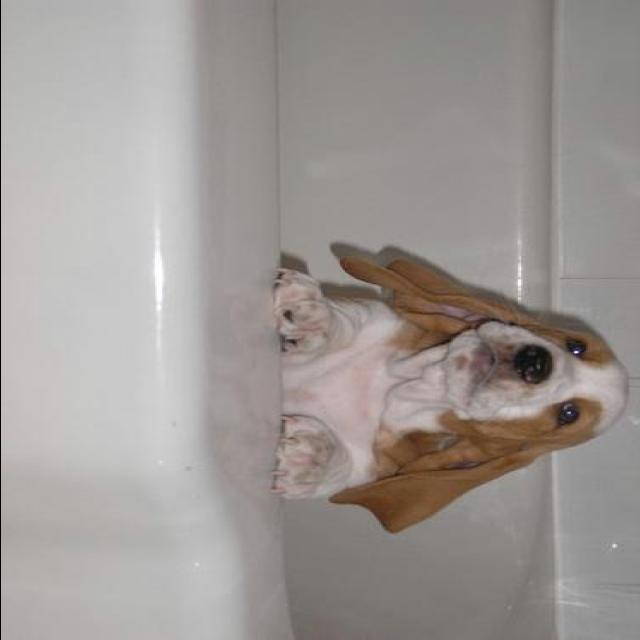basset: (272, 246, 628, 536)
